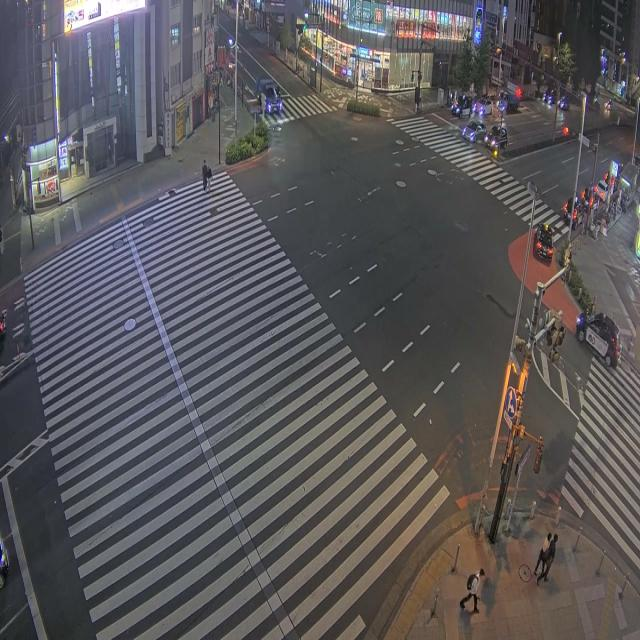car: (576, 313, 619, 367), (534, 224, 554, 262), (483, 126, 507, 149), (462, 120, 486, 142), (451, 95, 471, 117), (571, 204, 585, 229), (472, 99, 492, 116), (594, 181, 606, 201), (543, 90, 555, 104), (558, 96, 569, 111)
motorcycle: (0, 312, 5, 341), (604, 100, 612, 111)
